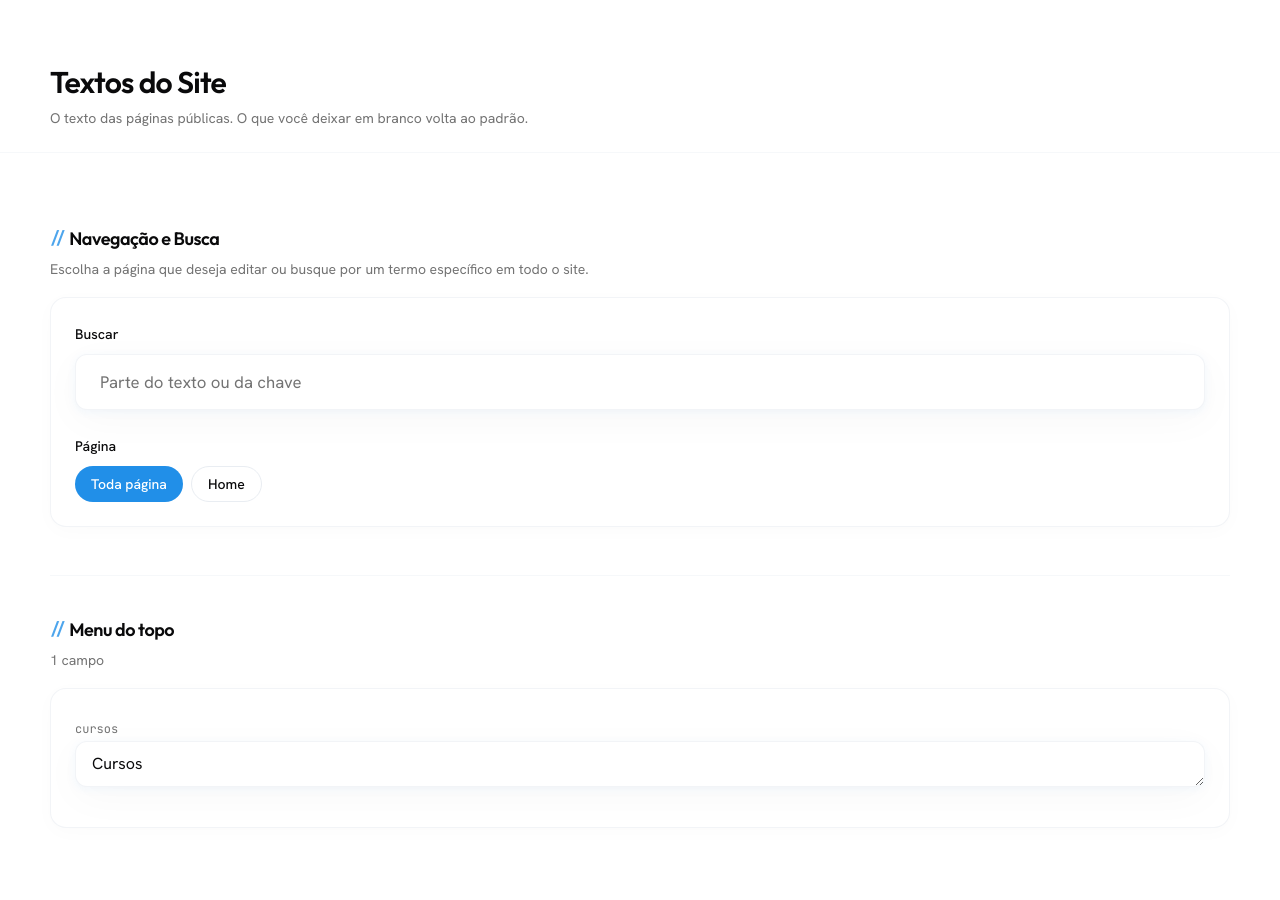
Test: AdminSiteTextPage — uma aba por página › a busca atravessa as abas — acha texto da Home estando em Toda página
The image size is (1280, 900).
Expected: the heading "Menu do topo" is shown, [69,616,174,644]
Type "Bora" into the field labelled "Buscar" at (640, 382), box [75,354,1205,410]
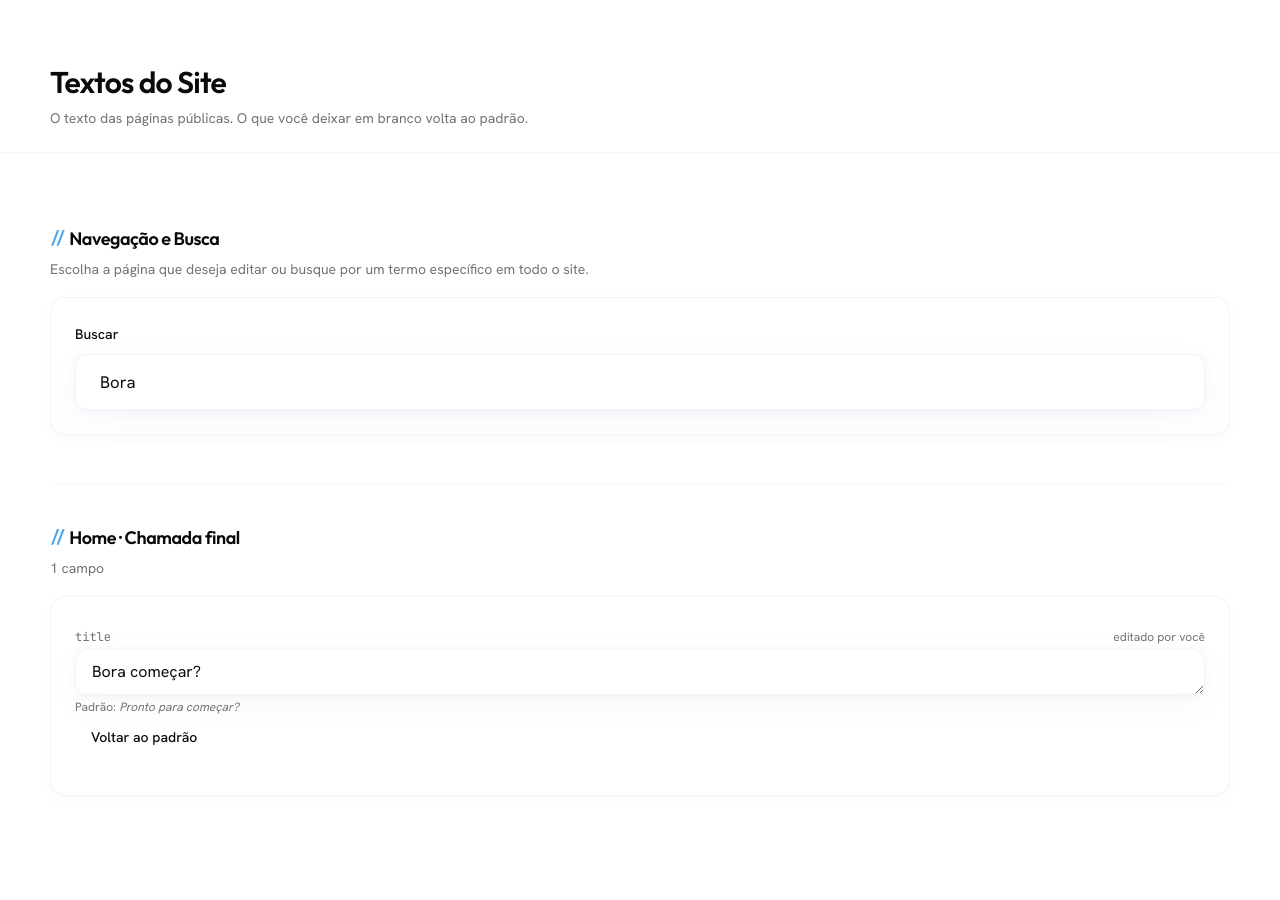
Expected: the heading "Home · Chamada final" is shown, [69,524,240,552]
